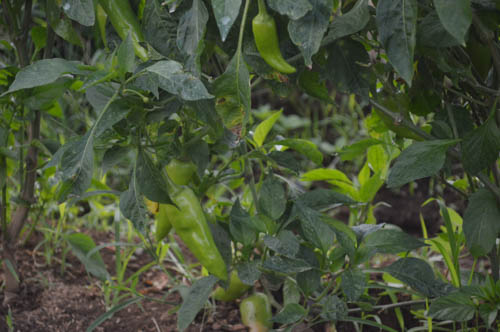ChiliPepper: (171, 190, 225, 277), (149, 159, 191, 241), (250, 17, 296, 76), (105, 2, 146, 59), (241, 295, 275, 332), (211, 270, 248, 304)
